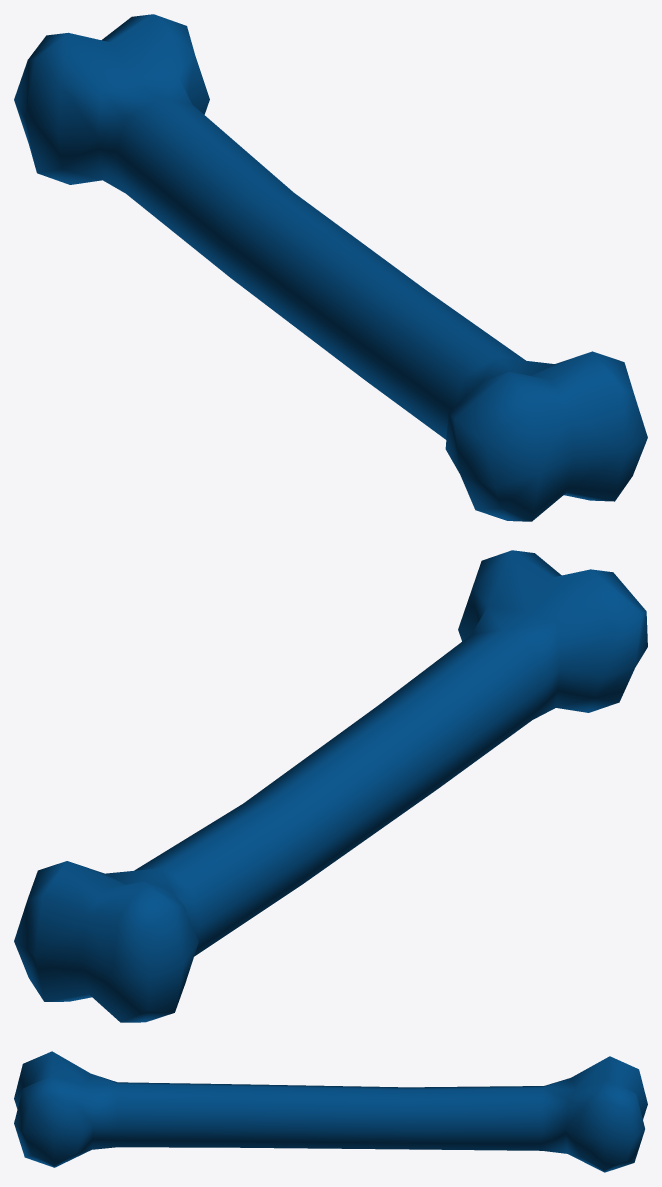
Rendered from Bones_01.fbx.
3 views of the same model, one above another, from view 1: azimuth 30°, elevation 25°; view 2: azimuth 150°, elevation 25°; view 3: azimuth 270°, elevation 25° (orthographic). The views are drawn at different scales.
Visible parts, largest first — view 1: Bones_01; view 2: Bones_01; view 3: Bones_01.
Part boxes in pixels (x1,y1,x2,y2): Bones_01: [14, 14, 647, 521]; Bones_01: [14, 550, 647, 1022]; Bones_01: [14, 1051, 647, 1172].
Size of the model in its own units: 11.41 by 8.36 by 52.24.
